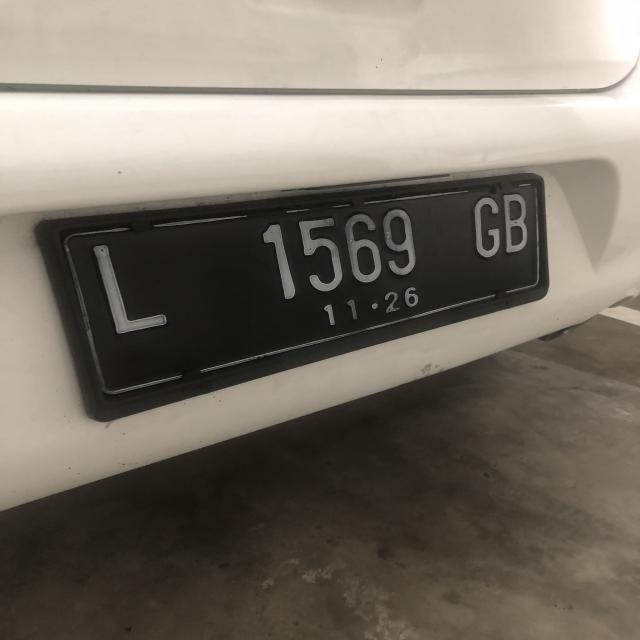1: (258, 218, 298, 302)
5: (297, 215, 343, 294)
6: (341, 206, 385, 286)
9: (382, 203, 426, 280)
B: (502, 192, 532, 256)
G: (471, 196, 503, 257)
L: (92, 234, 170, 342)
